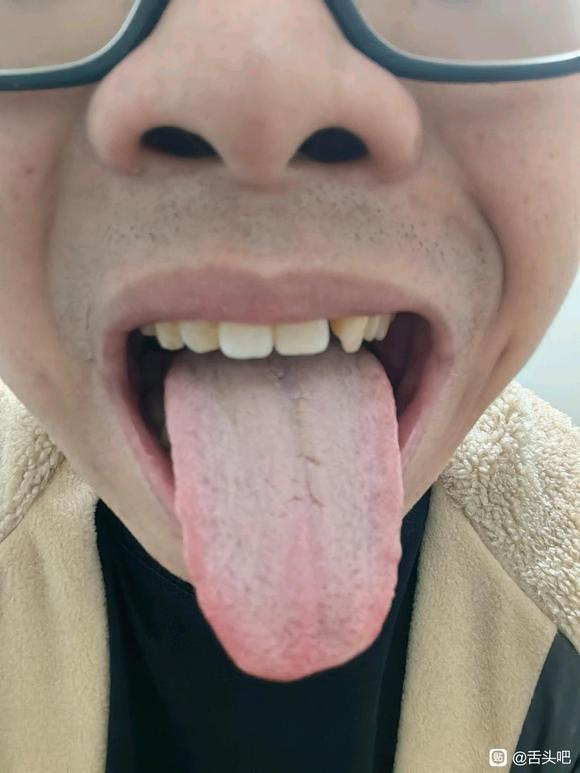baitaishe: (163, 346, 403, 681)
liewenshe: (286, 451, 325, 510)
